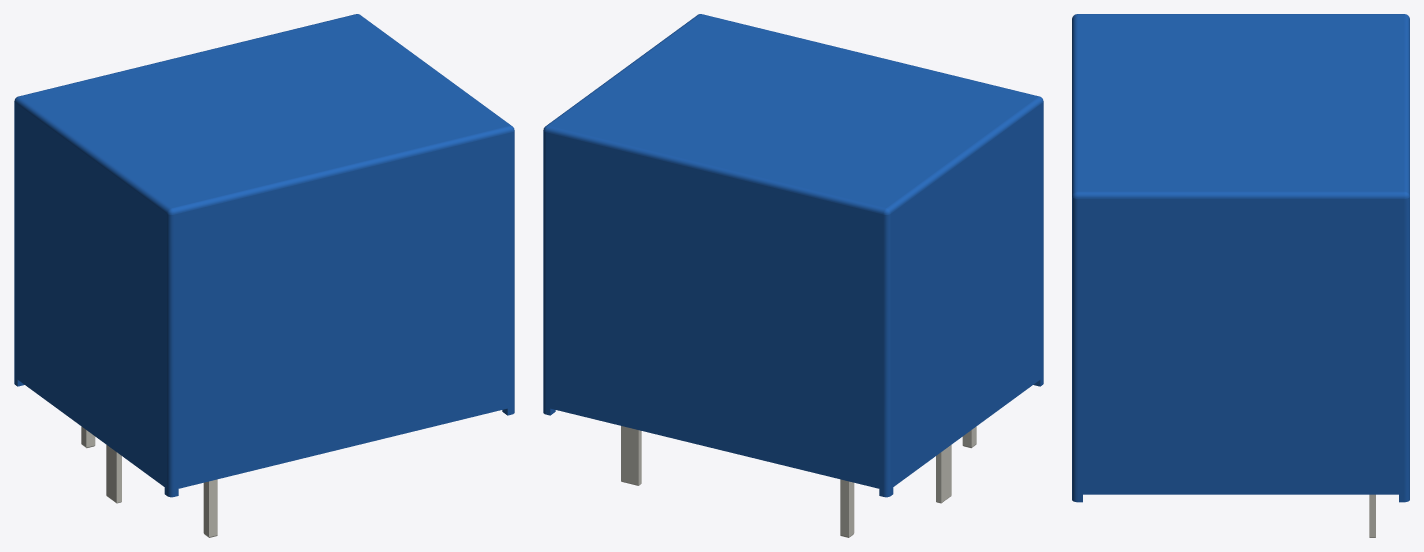
File: kc-relay_spst_sanyou_srd_series_form_b.glb
The picture shows the model from 3 angles, left to right: view 1: azimuth 30°, elevation 25°; view 2: azimuth 150°, elevation 25°; view 3: azimuth 270°, elevation 25°; orthographic projection. The views are drawn at different scales.
Visible parts, largest first — view 1: 0_0.16666666666666666_0.5_0, 0.6666666666666666_0.6666666666666666_0.5833333333333334_0.8; view 2: 0_0.16666666666666666_0.5_0, 0.6666666666666666_0.6666666666666666_0.5833333333333334_0.8; view 3: 0_0.16666666666666666_0.5_0.
Boxes of the visible parts, x1,y1,x2,y2 form: 0_0.16666666666666666_0.5_0: [14, 14, 514, 497]; 0.6666666666666666_0.6666666666666666_0.5833333333333334_0.8: [81, 426, 217, 537]; 0_0.16666666666666666_0.5_0: [543, 14, 1043, 497]; 0.6666666666666666_0.6666666666666666_0.5833333333333334_0.8: [621, 426, 976, 537]; 0_0.16666666666666666_0.5_0: [1072, 14, 1409, 502].
Bounding box in the file's own units: 1.96 × 1.9 × 1.54.
